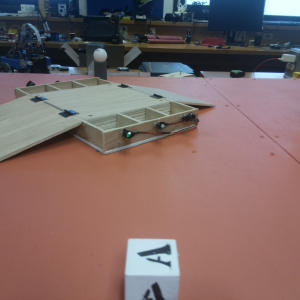blockA: (120, 230, 185, 300)
obstacle: (91, 49, 114, 76)
side: (87, 107, 200, 149), (12, 80, 116, 93)
slope: (1, 95, 81, 152), (121, 81, 211, 105)
